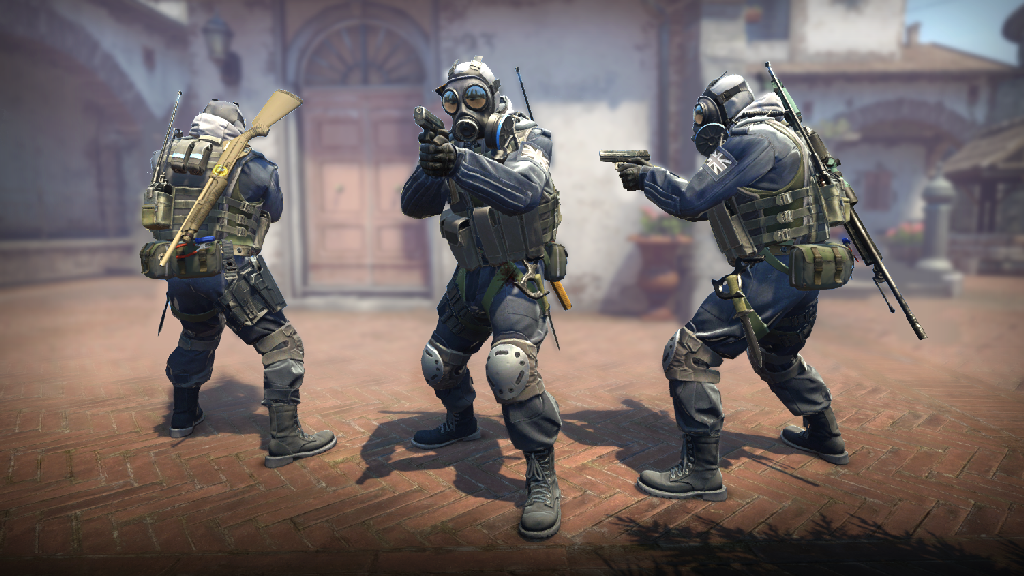c: (620, 67, 857, 498), (407, 54, 565, 539), (137, 97, 319, 466)
ch: (420, 47, 512, 152), (679, 64, 764, 162), (187, 92, 248, 146)
